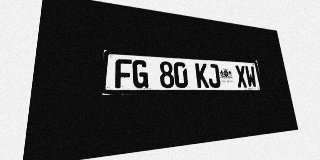0: (173, 62, 188, 88)
8: (159, 61, 174, 88)
F: (115, 59, 132, 88)
G: (132, 60, 148, 88)
J: (207, 64, 221, 88)
K: (195, 63, 209, 88)
W: (244, 66, 257, 88)
X: (235, 65, 248, 88)
